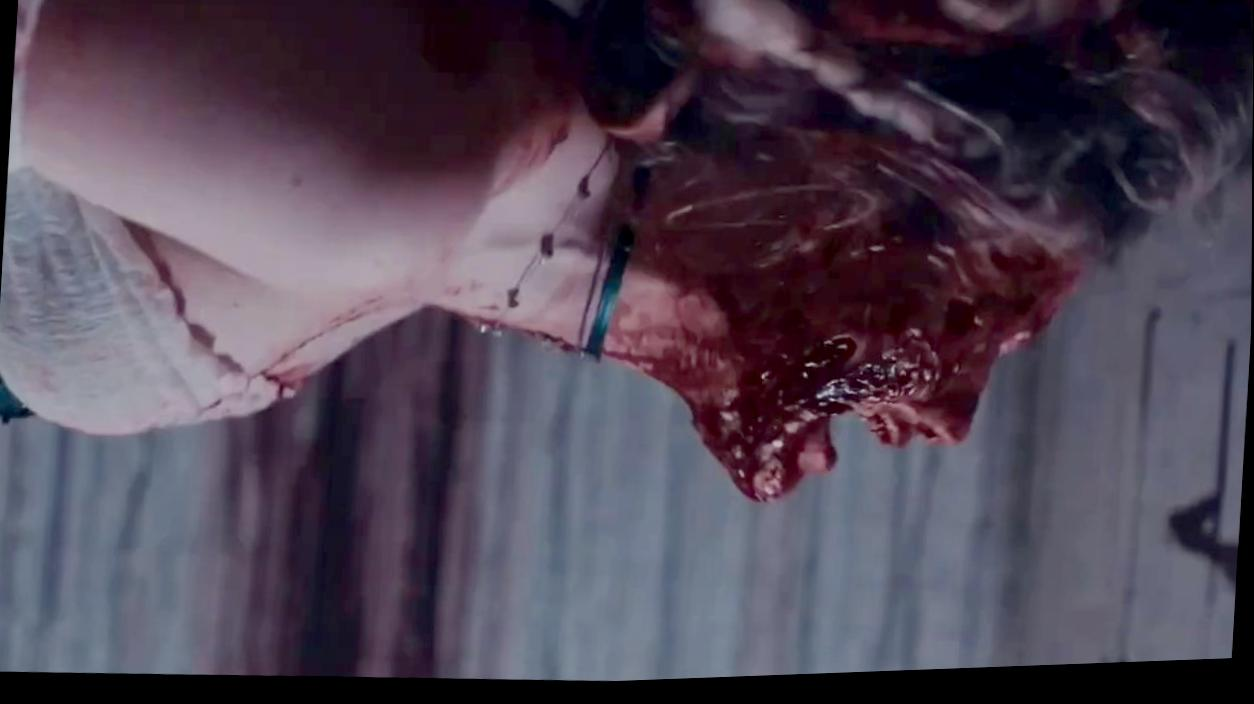Fire: (604, 152, 1080, 510), (214, 323, 488, 682), (785, 0, 1128, 92), (656, 0, 803, 93), (261, 299, 417, 385), (486, 88, 605, 200), (460, 315, 577, 361)
